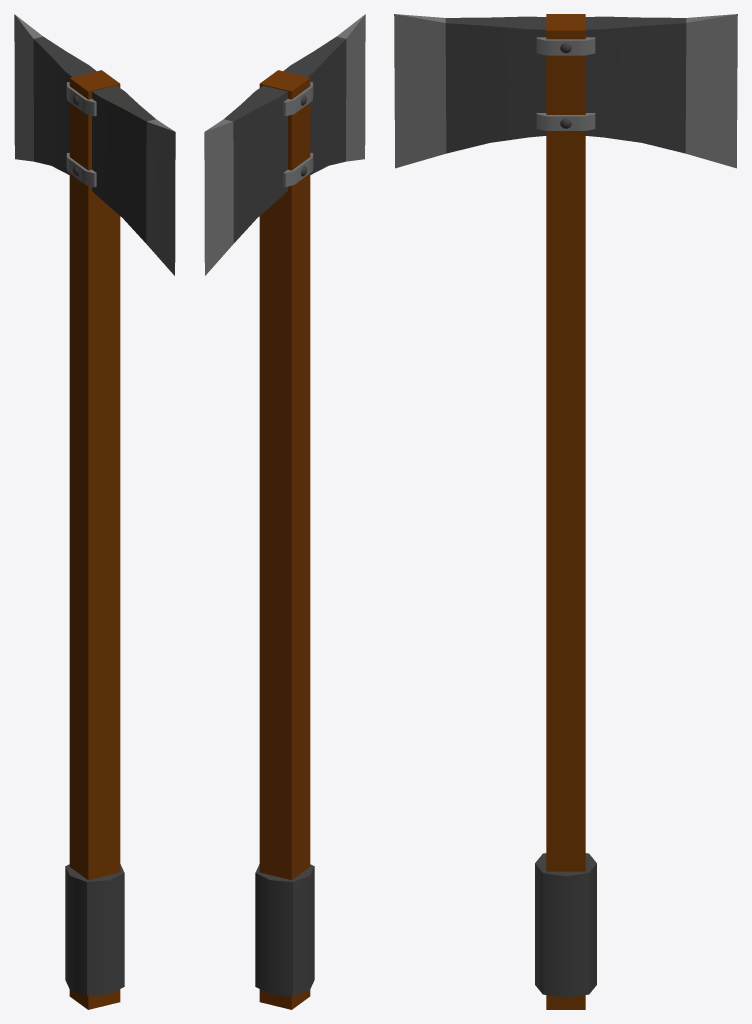
The model's file is Weapons.fbx.
3 views of the same model, side by side, from view 1: azimuth 30°, elevation 25°; view 2: azimuth 150°, elevation 25°; view 3: azimuth 270°, elevation 25° (orthographic). The views are drawn at different scales.
Parts seen in each view (by area): view 1: pCube11; view 2: pCube11; view 3: pCube11.
Part boxes in pixels (bbox=[...]): pCube11: bbox=[14, 14, 175, 1009]; pCube11: bbox=[204, 14, 365, 1009]; pCube11: bbox=[394, 14, 737, 1009].
Size of the model in its own units: 1.57 by 27.51 by 8.68.
